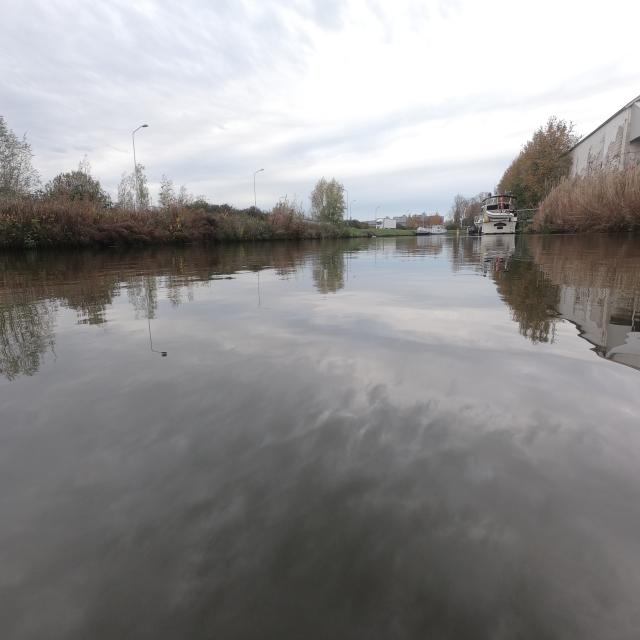boat: (470, 194, 518, 235), (417, 225, 446, 236)
grass: (349, 227, 416, 237)
reed: (0, 191, 348, 249), (530, 150, 638, 232)
sky: (0, 2, 638, 216)
water: (0, 236, 640, 640)
